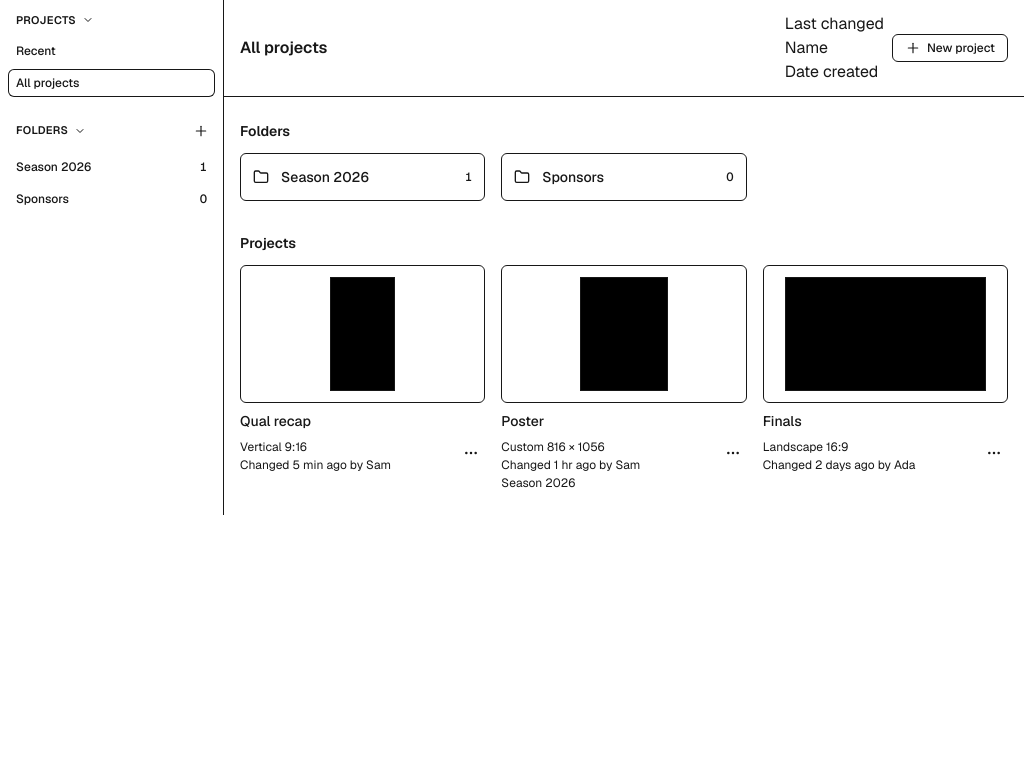
Test: a card's Move to… item › gives focus back to the ⋯ button once the dialog has left the page
Click the button named "Project options" next to "Changed 5 min ago by Sam": (471,453) [457,439,485,467]
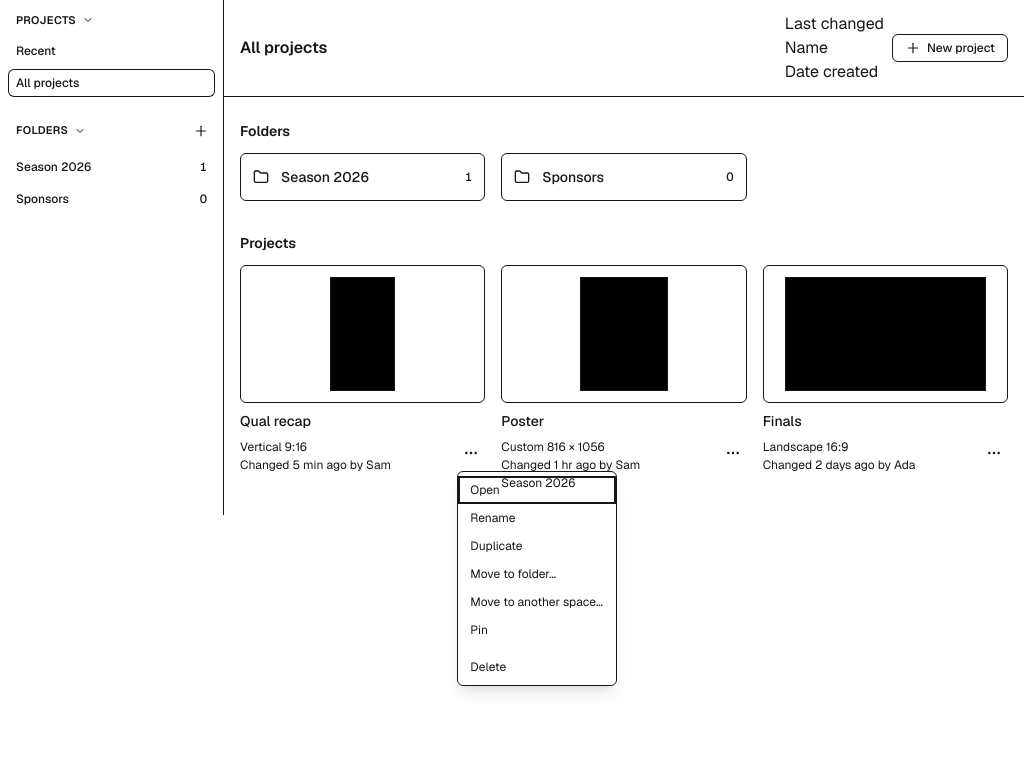
Click the menu item "Move to another space…": (537,602) [458,588,616,616]
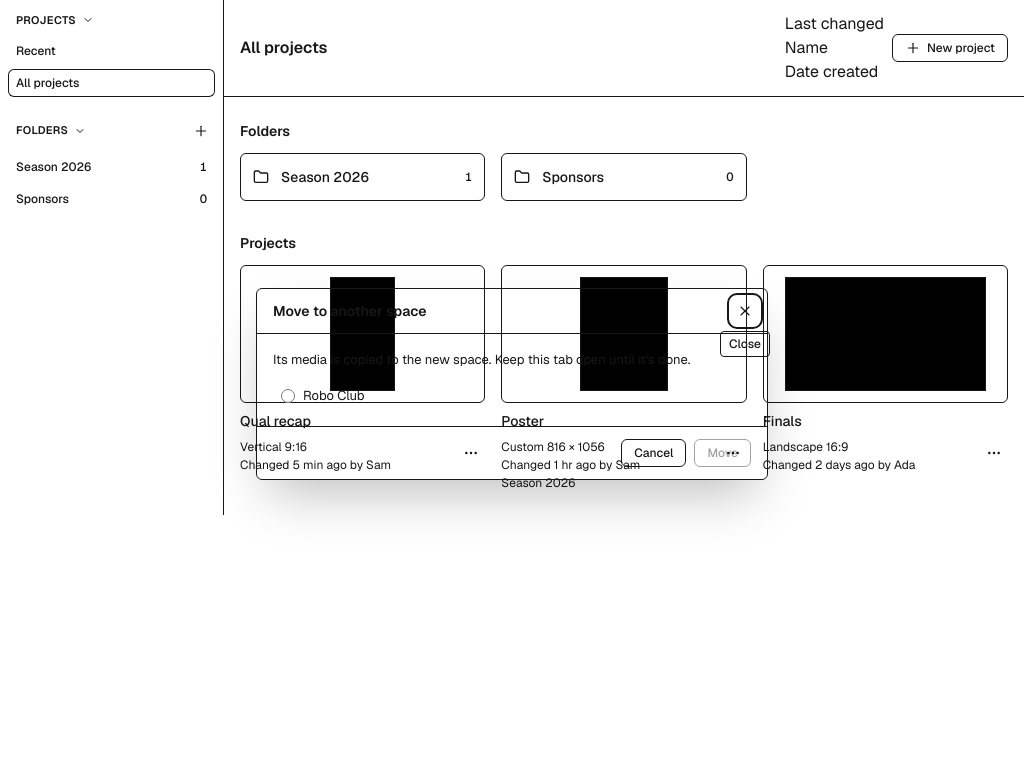
Click the button "Cancel": (654,453) [621,439,686,467]
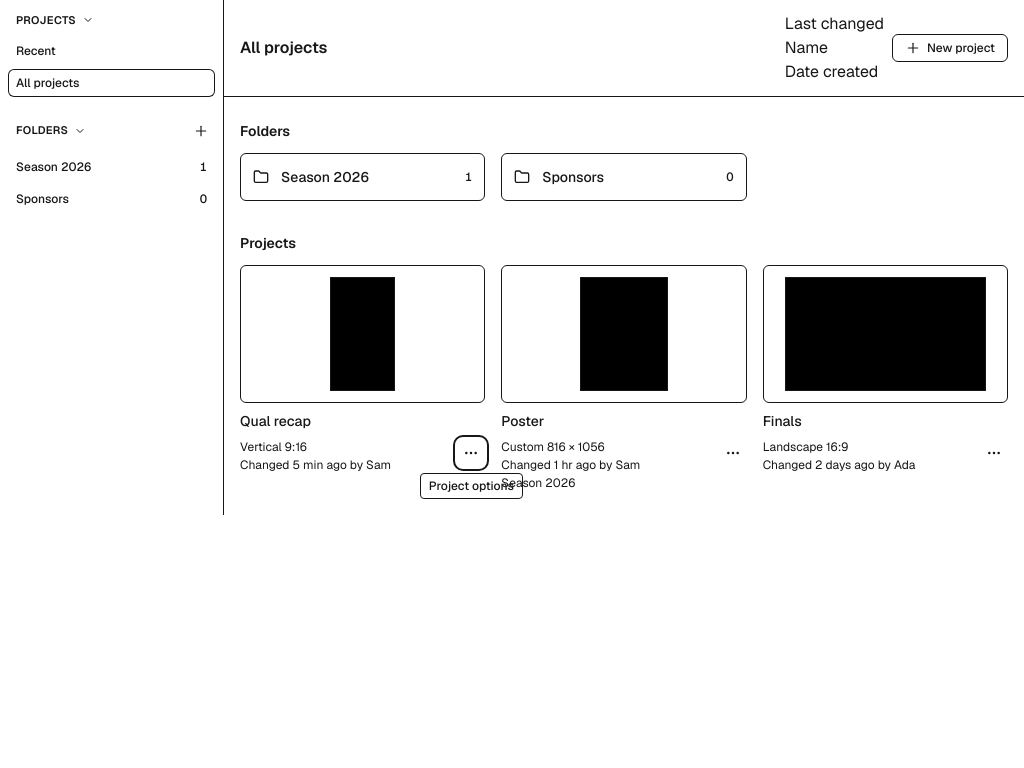
Now the dialog is gone
